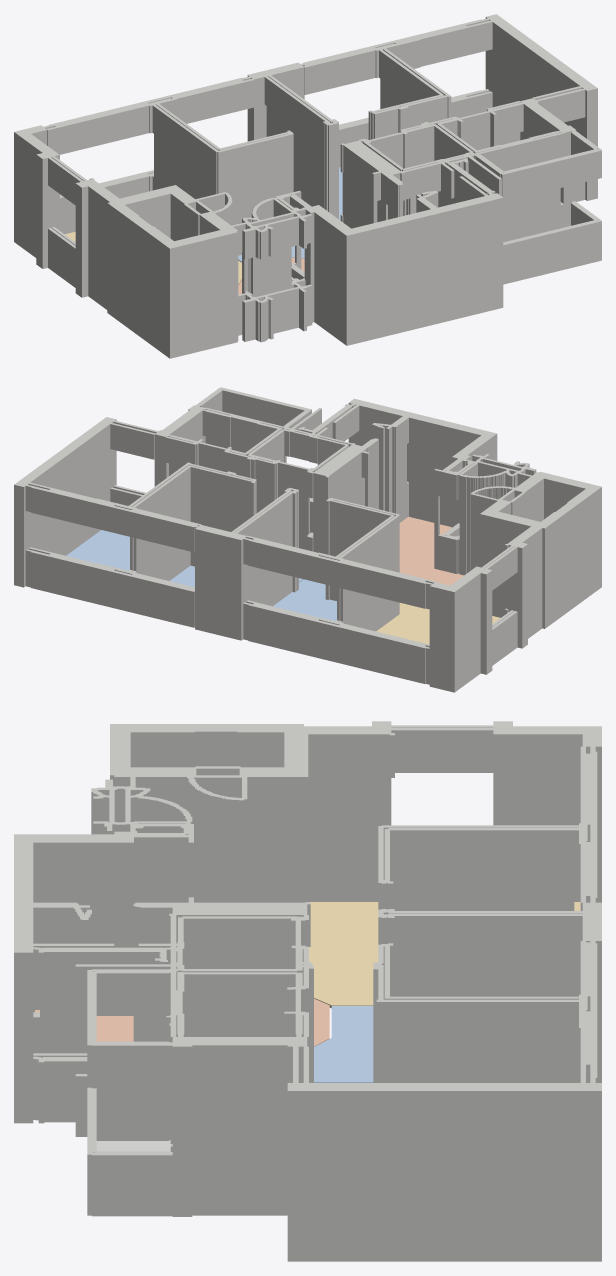
3 renders of one model, top to bottom at view 1: azimuth 30°, elevation 25°; view 2: azimuth 150°, elevation 25°; view 3: azimuth 270°, elevation 25°, orthographic. The views are drawn at different scales.
Parts seen in each view (by area): view 1: walls; view 2: walls, room:kitchen:9, room:bedroom:5, room:bedroom:1, room:living:0; view 3: walls, room:living:0, room:bedroom:1, room:kitchen:9, room:ledge:7.
Part boxes in pixels (x1,y1,x2,y2): walls: (14,14,601,358); walls: (14,387,601,692); room:kitchen:9: (399,516,463,585); room:bedroom:5: (66,530,129,570); room:bedroom:1: (273,579,336,620); room:living:0: (376,603,500,644); walls: (14,721,601,1261); room:living:0: (309,902,580,1008); room:bedroom:1: (314,1006,373,1082); room:kitchen:9: (35,998,329,1046); room:ledge:7: (96,1140,170,1151).
Bounding box in the file's own units: 13.02 × 2.8 × 8.75.
